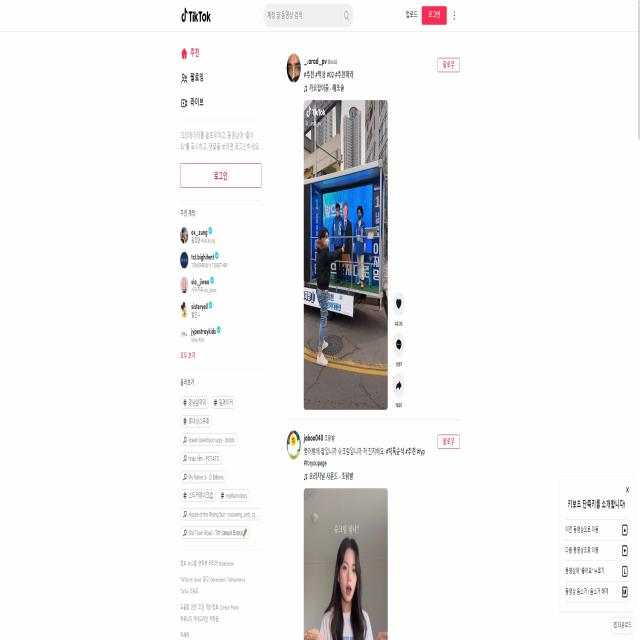menu-bar: (404, 3, 459, 28)
menu-panel: (178, 35, 262, 554)
search: (261, 1, 355, 25)
